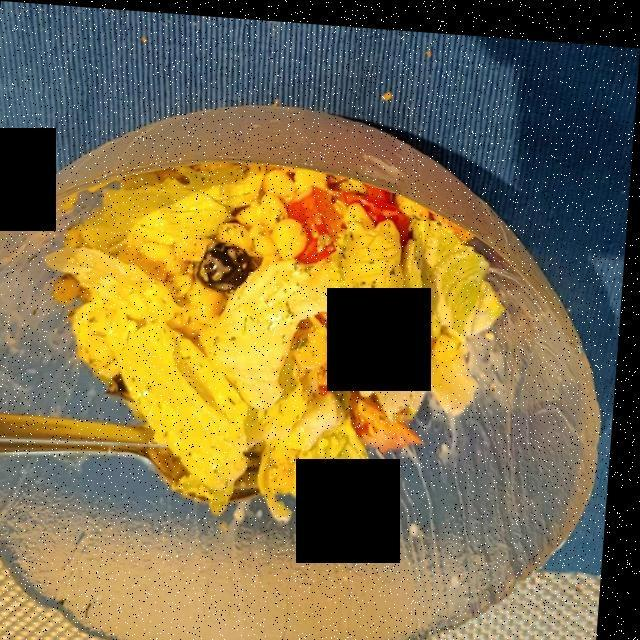black-olives: (197, 231, 269, 284)
salad: (73, 177, 481, 498)
tomato: (298, 186, 432, 449)
